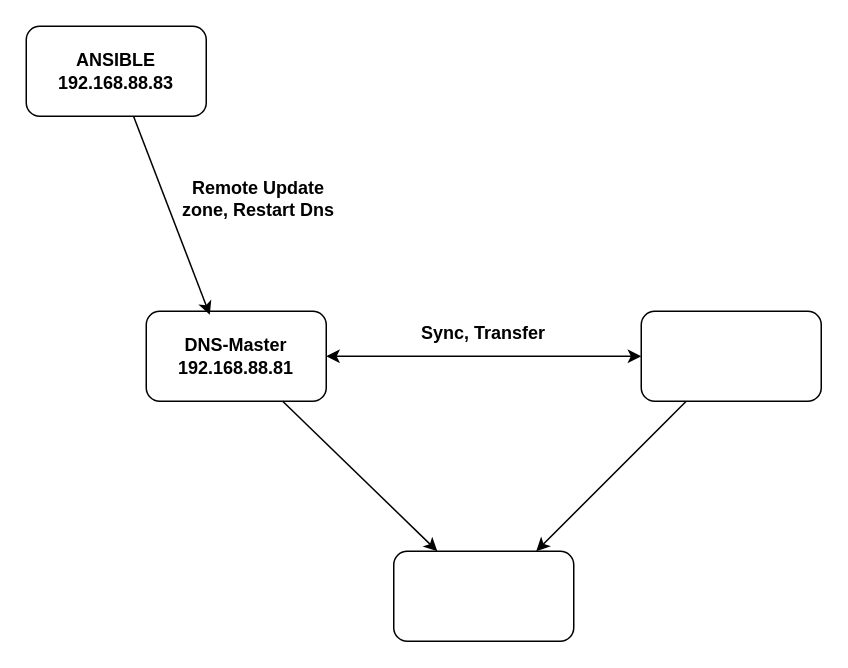
This 848x668 diagram has some shape labels left out. Here are the shapes that lost their labels. From the top down, the box of each, then its label:
(640, 310, 821, 401): DNS-Slave 192.168.88.85
(392, 550, 574, 641): Client 192.168.88.86
